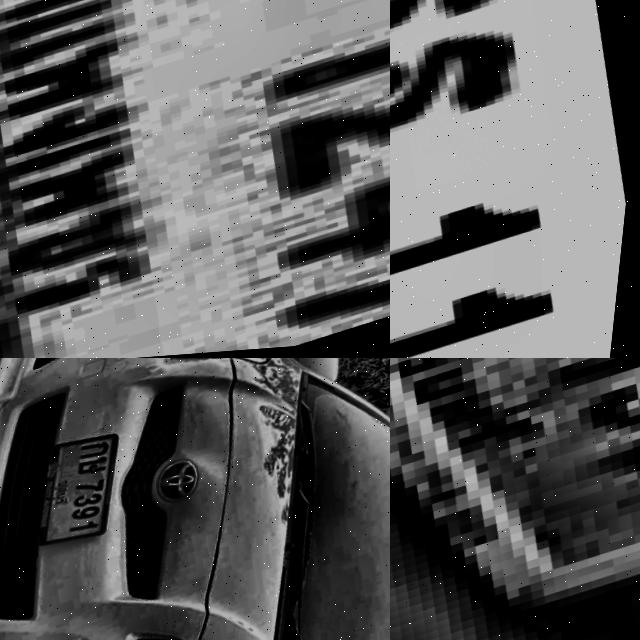license-plate: (0, 0, 390, 358), (390, 0, 640, 358), (390, 358, 640, 640), (8, 422, 150, 563)
